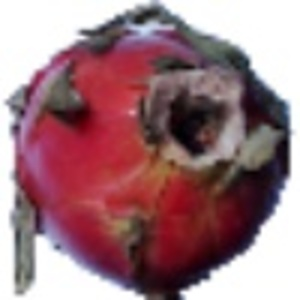pitaia: (6, 1, 295, 300)
